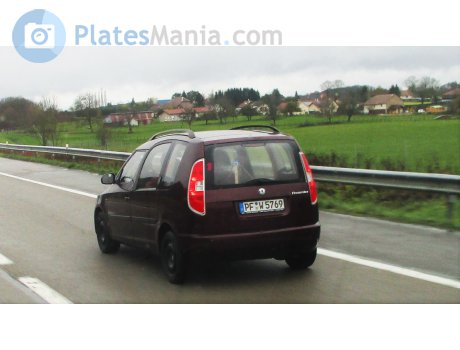License Plates: (243, 200, 292, 210)
